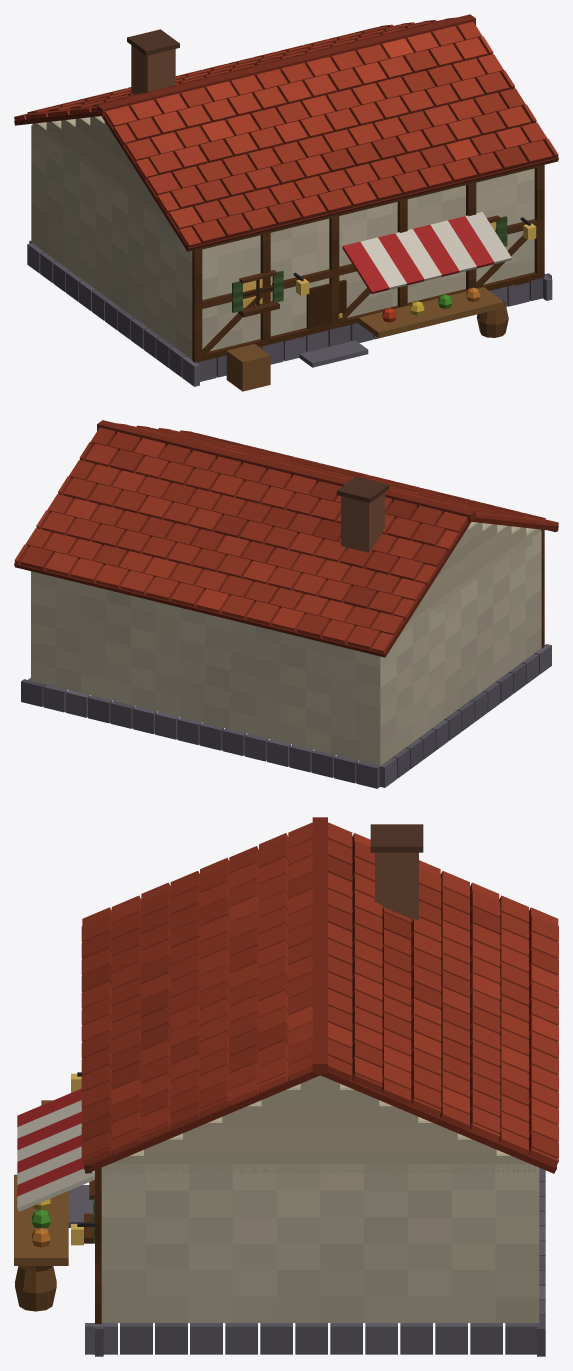
Rendered from b_merchant.glb.
3 views of the same model, one above another, from view 1: azimuth 30°, elevation 25°; view 2: azimuth 150°, elevation 25°; view 3: azimuth 270°, elevation 25° (orthographic). The views are drawn at different scales.
Parts seen in each view (by area): view 1: b_merchant; view 2: b_merchant; view 3: b_merchant.
Boxes of the visible parts, x1,y1,x2,y2 form: b_merchant: [14, 14, 558, 391]; b_merchant: [14, 420, 558, 788]; b_merchant: [14, 817, 558, 1356].
Bounding box in the file's own units: 5.34 × 3.35 × 4.98.
